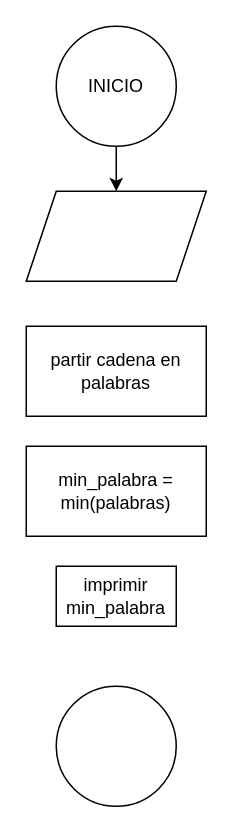
Image size: 233x833. Some labels were removed from this diagram. Each missing label, with the centre of its shape:
"FIN" goes at (x=115, y=745).
"INPUT cadena" goes at (x=115, y=235).
